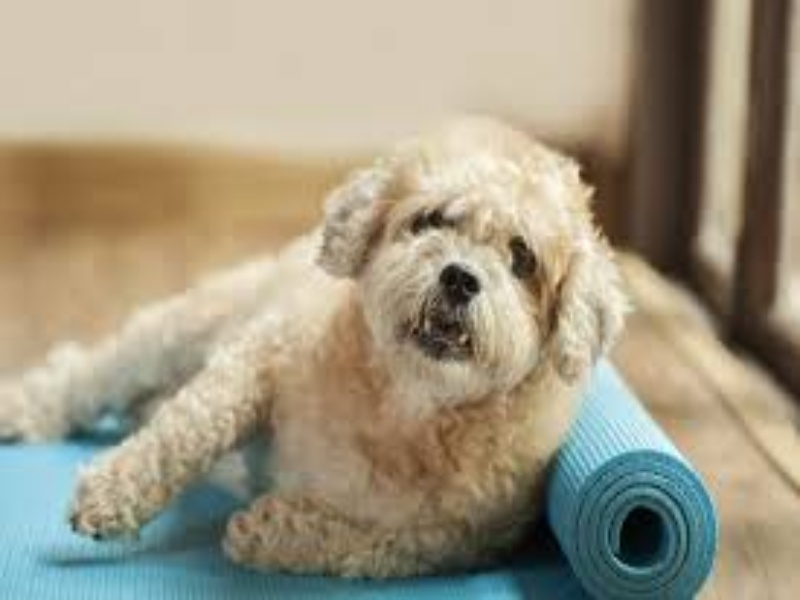dog: (28, 106, 640, 585)
